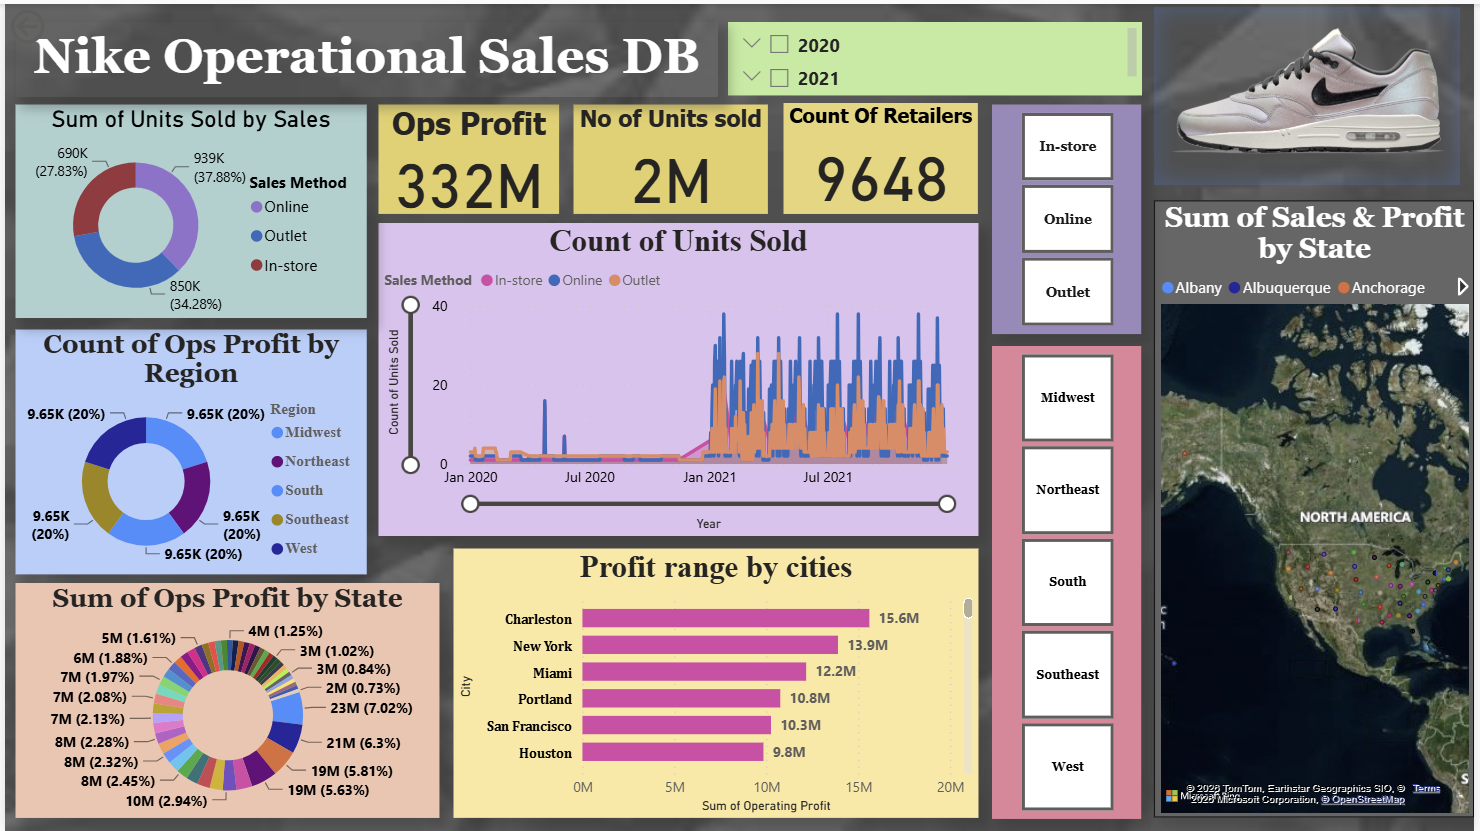

What the dashboard file says about the page in this screenshot:
{"tool":"powerbi","page":{"name":"Page 1","canvas":[1280,720],"ordinal":0},"visuals":[{"type":"donutChart","title":"Sum of Units Sold by Sales","fields":{"Category":["Sheet1.Sales Method"],"Y":["Sum(Sheet1.Units Sold)"]},"box":[17.1,81.4,341.4,185.7],"z":0},{"type":"donutChart","title":"Count of Ops Profit by Region","fields":{"Category":["Sheet1.Region"],"Y":["CountNonNull(Sheet1 (2).Operating Profit)"]},"box":[16.7,275.6,342.2,221.1],"z":1000},{"type":"donutChart","title":"Sum of Ops Profit by State","fields":{"Y":["Sum(Sheet1.Operating Profit)"],"Category":["Sheet1.State"]},"box":[16.7,516.3,342.2,187.8],"z":2000},{"type":"barChart","title":"Profit range by cities","fields":{"Category":["Sheet1.City"],"Y":["Sum(Sheet1.Operating Profit)"]},"box":[378.6,480,490,224.3],"z":3000},{"type":"areaChart","title":"Count of Units Sold","fields":{"Series":["Sheet1.Sales Method"],"Y":["CountNonNull(Sheet1.Units Sold)"],"Category":["Sheet1.Invoice Date.Variation.Date Hierarchy.Year","Sheet1.Invoice Date.Variation.Date Hierarchy.Quarter","Sheet1.Invoice Date.Variation.Date Hierarchy.Month","Sheet1.Invoice Date.Variation.Date Hierarchy.Day"]},"box":[368.6,185.7,500,274.3],"z":4000},{"type":"card","title":"Ops Profit","fields":{"Values":["Sum(Sheet1.Operating Profit)"]},"box":[368.6,81.4,144.3,95.7],"z":5000},{"type":"card","title":"No of Units sold","fields":{"Values":["Sum(Sheet1.Units Sold)"]},"box":[522.9,82.9,170,95.7],"z":6000},{"type":"card","title":"Count Of Retailers","fields":{"Values":["CountNonNull(Sheet1.Retailer ID)"]},"box":[698.6,80,170,97.1],"z":7000},{"type":"slicer","fields":{"Values":["Sheet1.Region"]},"box":[887.1,297.1,130,412.9],"z":8000},{"type":"slicer","fields":{"Values":["Sheet1.Sales Method"]},"box":[885.7,82.9,131.4,205.7],"z":9000},{"type":"map","title":"Sum of Sales & Profit by State","fields":{"Category":["Sheet1 (2).State","Table.Date.Variation.Date Hierarchy.Year"],"Series":["Sheet1 (2).City"]},"box":[1028.6,142.9,251.4,567.1],"z":10000},{"type":"slicer","fields":{"Values":["Sheet1.Invoice Date.Variation.Date Hierarchy.Year","Sheet1.Invoice Date.Variation.Date Hierarchy.Quarter"]},"box":[680,2.9,348.6,64.3],"z":11000},{"type":"image","box":[1040,2.9,227.1,127.1],"z":12000},{"type":"textbox","box":[16.7,3,640.5,66.6],"z":13000}]}

Visuals, with their boxes in screenshot pixels (x1, y1, x2, y2), scaled from the page's 1280x720 canvas onto the 1480x831 screenshot:
"Sum of Units Sold by Sales" donutChart: <bbox>20, 94, 415, 308</bbox>
"Count of Ops Profit by Region" donutChart: <bbox>19, 318, 415, 573</bbox>
"Sum of Ops Profit by State" donutChart: <bbox>19, 596, 415, 813</bbox>
"Profit range by cities" barChart: <bbox>438, 554, 1004, 813</bbox>
"Count of Units Sold" areaChart: <bbox>426, 214, 1004, 531</bbox>
"Ops Profit" card: <bbox>426, 94, 593, 204</bbox>
"No of Units sold" card: <bbox>605, 96, 801, 206</bbox>
"Count Of Retailers" card: <bbox>808, 92, 1004, 204</bbox>
slicer - Sheet1.Region: <bbox>1026, 343, 1176, 819</bbox>
slicer - Sheet1.Sales Method: <bbox>1024, 96, 1176, 333</bbox>
"Sum of Sales & Profit by State" map: <bbox>1189, 165, 1479, 819</bbox>
slicer - Sheet1.Invoice Date.Variation.Date Hierarchy.Year x Sheet1.Invoice Date.Variation.Date Hierarchy.Quarter: <bbox>786, 3, 1189, 78</bbox>
image: <bbox>1202, 3, 1465, 150</bbox>
textbox: <bbox>19, 3, 760, 80</bbox>
